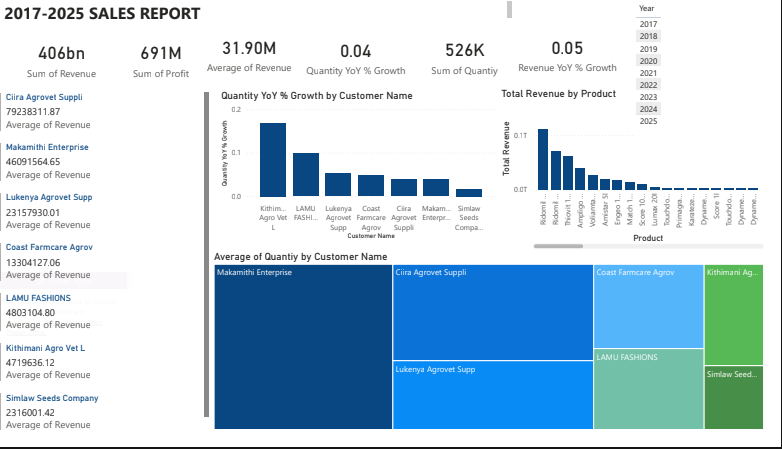

What the dashboard file says about the page in this screenshot:
{"tool":"powerbi","page":{"name":"Page 1","canvas":[1280,720],"ordinal":0},"visuals":[{"type":"textbox","box":[1.5,0,1279,42.4],"z":0},{"type":"card","fields":{"Values":["Sum(Sales_Data.Revenue)"]},"box":[1.5,41,300,112.7],"z":1000},{"type":"card","fields":{"Values":["Sum(Sales_Data.Profit)"]},"box":[301.5,41,190.2,108.3],"z":2000},{"type":"PowerApps_PBI_CV_C29F1DCC_81F5_4973_94AD_0517D44CC06A","box":[0,448,232,150],"z":3000},{"type":"card","fields":{"Values":["Sum(Sales_Data.Quantiy)"]},"box":[856.1,41,207.8,109.8],"z":4000},{"type":"funnel","fields":{"Category":["Sales_Data.Customer Name"],"Y":["Avg(Sales_Data.Quantiy)"]},"box":[358.5,417.1,922,302.9],"z":5000},{"type":"multiRowCard","title":"Average Revenue by Customer ","fields":{"Values":["Avg(Sales_Data.Revenue)","Sales_Data.Customer Name"]},"box":[2.9,150.7,368.8,569.3],"z":6000},{"type":"card","fields":{"Values":["Avg(Sales_Data.Revenue)"]},"box":[491.7,41,177.1,108.3],"z":7000},{"type":"card","fields":{"Values":["Sales_Data.Quantity YoY % Growth"]},"box":[668.8,41,187.3,108.3],"z":8000},{"type":"card","fields":{"Values":["Sales_Data.Revenue YoY % Growth"]},"box":[1058,41,222.4,108.3],"z":9000},{"type":"columnChart","fields":{"Category":["Sales_Data.Customer Name"],"Y":["Sales_Data.Quantity YoY % Growth"]},"box":[371.7,149.3,463.9,267.8],"z":10000},{"type":"clusteredColumnChart","fields":{"Y":["Sales_Data.Total Revenue"],"Category":["Sales_Data.Product"]},"box":[835.6,150.7,444.9,266.3],"z":11000}]}

Visuals, with their boxes in screenshot pixels (x1, y1, x2, y2), scaled from the page's 1280x720 canvas onto the 782x449 screenshot:
textbox: x1=1, y1=0, x2=781, y2=26
card - Sum(Sales_Data.Revenue): x1=1, y1=26, x2=184, y2=96
card - Sum(Sales_Data.Profit): x1=184, y1=26, x2=300, y2=93
PowerApps_PBI_CV_C29F1DCC_81F5_4973_94AD_0517D44CC06A: x1=0, y1=279, x2=142, y2=373
card - Sum(Sales_Data.Quantiy): x1=523, y1=26, x2=650, y2=94
funnel - Sales_Data.Customer Name x Avg(Sales_Data.Quantiy): x1=219, y1=260, x2=781, y2=448
"Average Revenue by Customer " multiRowCard: x1=2, y1=94, x2=227, y2=448
card - Avg(Sales_Data.Revenue): x1=300, y1=26, x2=409, y2=93
card - Sales_Data.Quantity YoY % Growth: x1=409, y1=26, x2=523, y2=93
card - Sales_Data.Revenue YoY % Growth: x1=646, y1=26, x2=781, y2=93
columnChart - Sales_Data.Customer Name x Sales_Data.Quantity YoY % Growth: x1=227, y1=93, x2=510, y2=260
clusteredColumnChart - Sales_Data.Total Revenue x Sales_Data.Product: x1=510, y1=94, x2=781, y2=260
